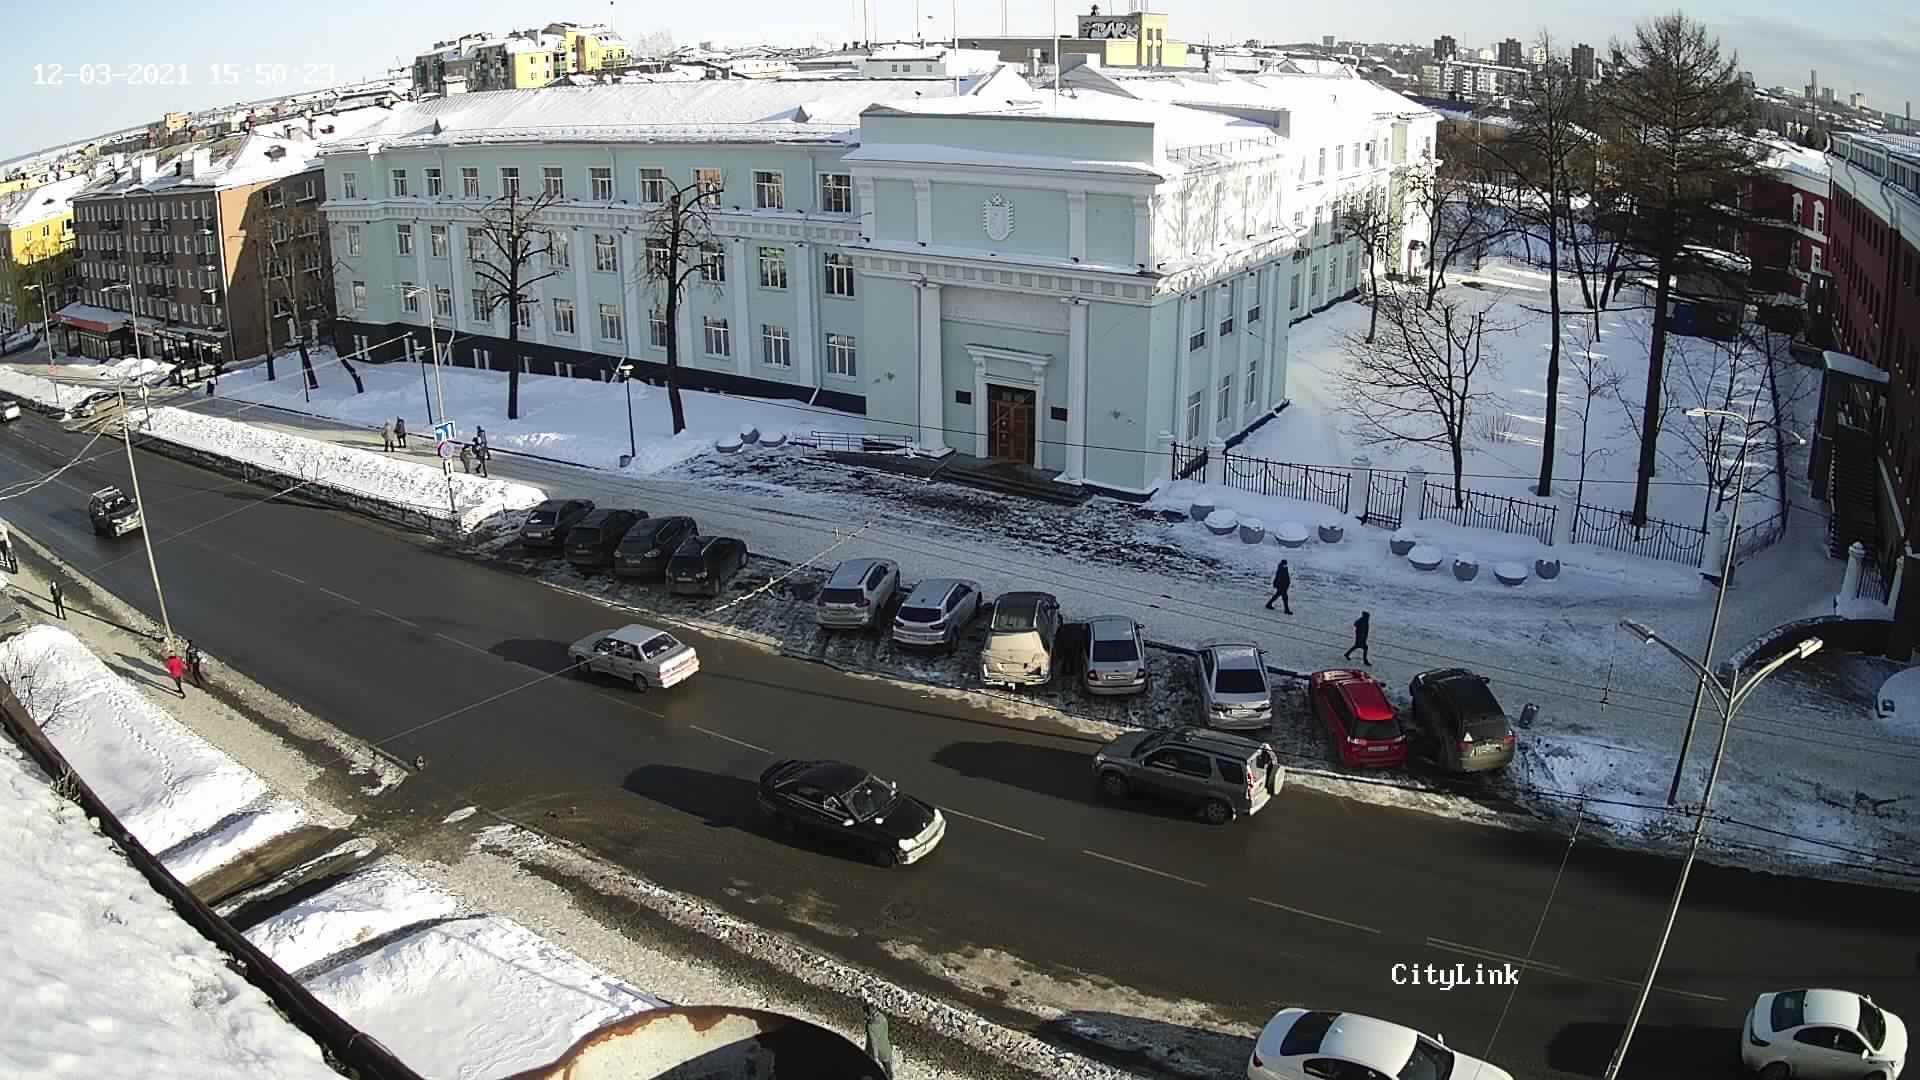car: (1408, 666, 1530, 791), (1303, 661, 1407, 779), (968, 585, 1069, 700), (1184, 632, 1290, 738), (1071, 605, 1166, 711), (891, 559, 982, 666), (803, 549, 897, 642), (566, 497, 647, 572), (666, 525, 746, 600), (738, 550, 812, 629), (618, 509, 696, 580), (513, 491, 593, 556)
